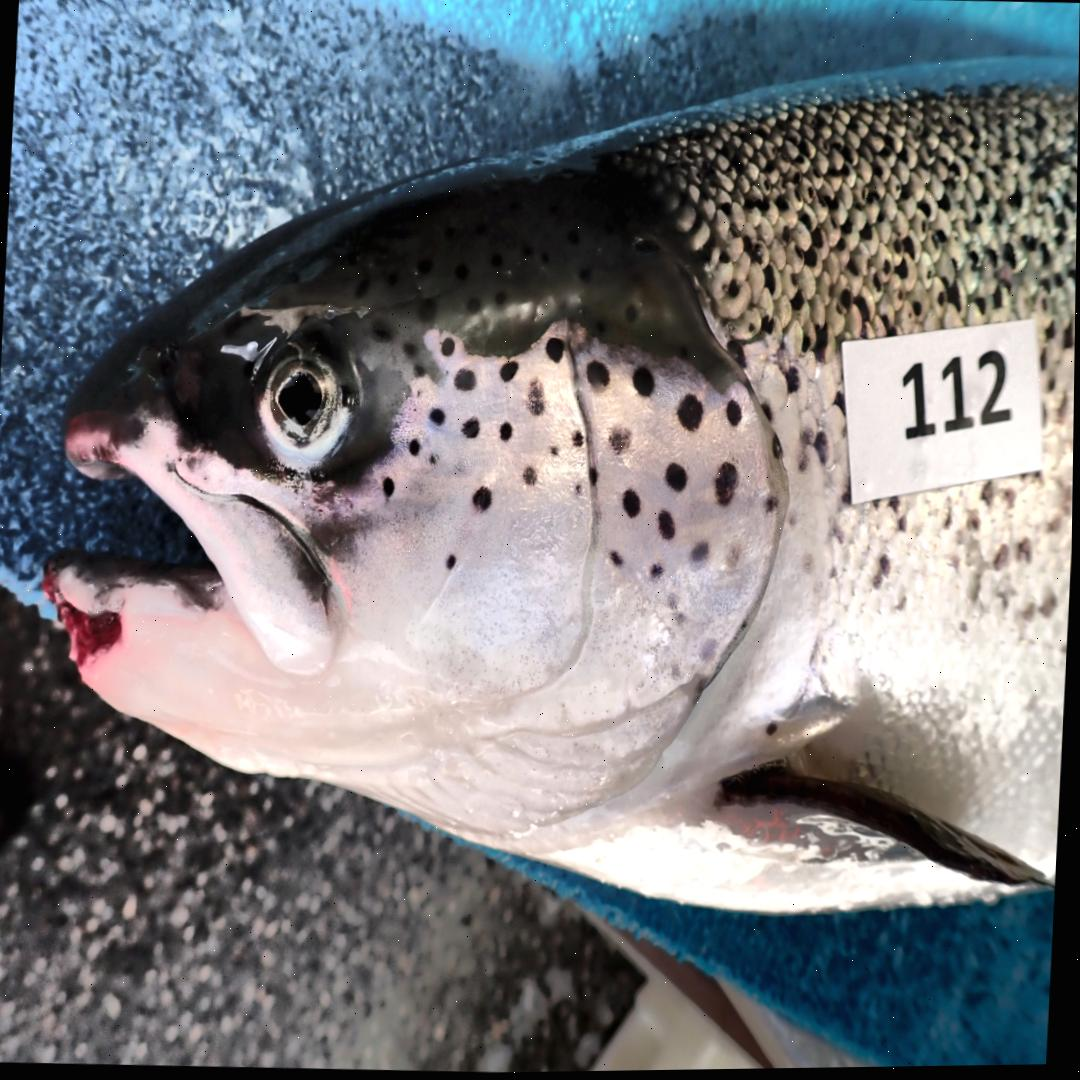spot: (716, 463, 740, 506), (678, 397, 704, 434), (633, 367, 655, 399), (609, 427, 633, 455), (667, 465, 689, 494), (725, 543, 745, 574), (691, 542, 711, 571), (528, 382, 545, 416), (454, 369, 478, 392), (587, 363, 610, 386), (659, 513, 677, 542), (623, 492, 642, 518), (474, 489, 494, 512), (701, 639, 718, 664), (727, 401, 743, 427), (547, 340, 565, 363), (462, 420, 480, 440), (501, 361, 519, 381), (441, 337, 456, 357), (524, 467, 537, 487), (383, 478, 396, 498), (431, 408, 446, 425), (650, 564, 665, 581), (610, 552, 625, 569), (773, 435, 783, 460), (766, 498, 779, 516), (573, 431, 586, 449), (501, 424, 514, 441), (410, 439, 421, 456), (448, 556, 459, 571), (551, 445, 562, 459), (590, 469, 599, 486), (670, 596, 679, 612), (429, 454, 440, 465), (677, 615, 687, 626), (576, 485, 583, 495)
